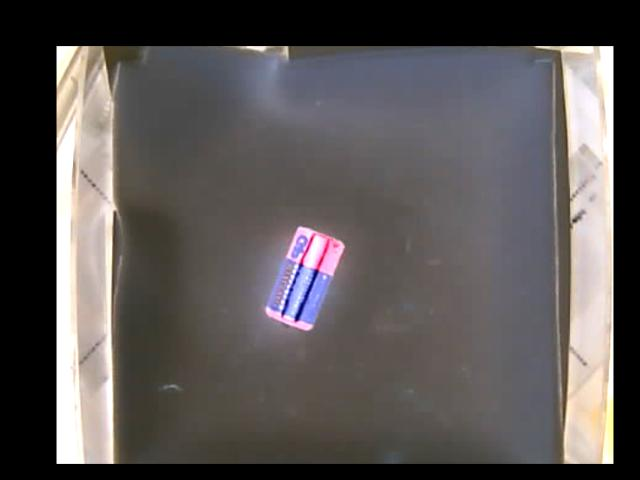Battery: (265, 226, 346, 331)
